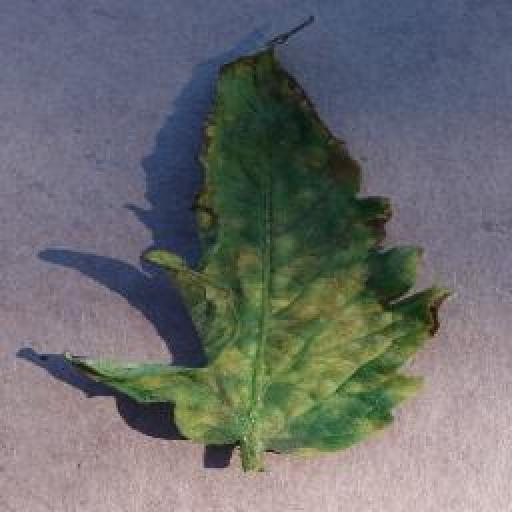Leaf Mold: (70, 47, 455, 457)
